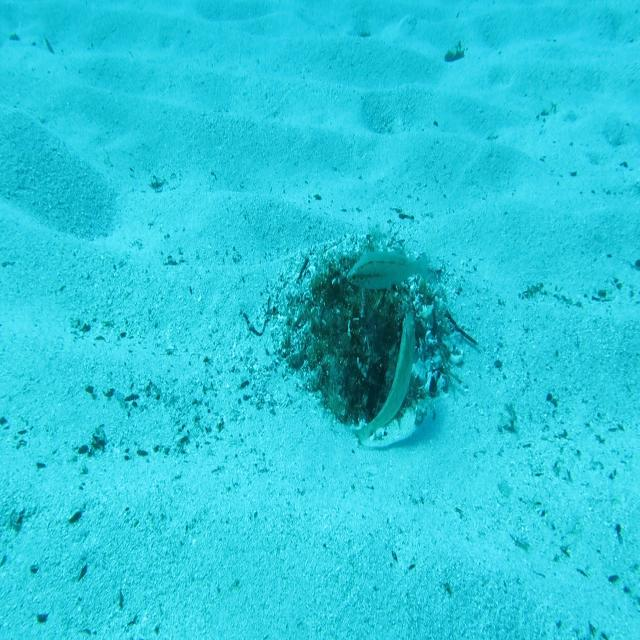BEND: (350, 305, 424, 445)
core_nest: (333, 277, 385, 322)
female: (346, 240, 436, 294)
nest: (262, 220, 472, 456)
vegetation: (444, 42, 467, 65)
